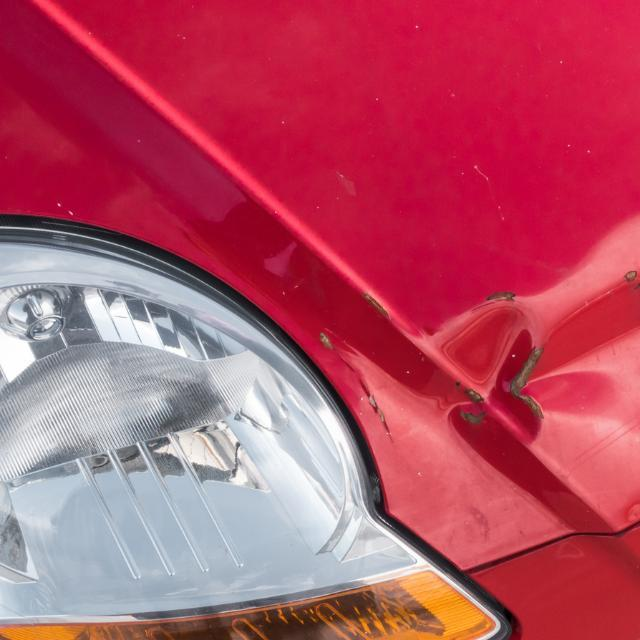Bonnet: (174, 150, 640, 528)
